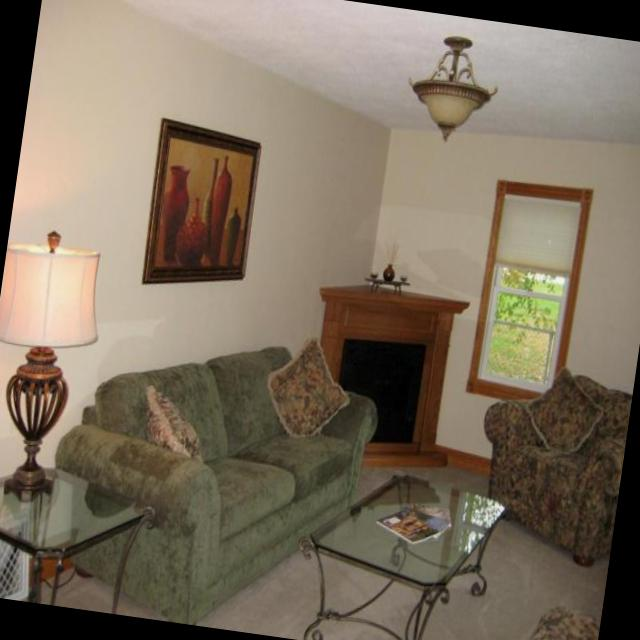book: (372, 494, 454, 549)
cupboard: (296, 275, 472, 476)
lamps: (400, 28, 504, 147)
pillows: (260, 332, 358, 444), (520, 362, 610, 459), (136, 383, 212, 461)
sofa: (33, 311, 386, 640), (466, 355, 636, 569)
table: (284, 458, 509, 640), (0, 453, 158, 617)
table-lamp: (0, 222, 111, 507)
window: (465, 175, 593, 406)
